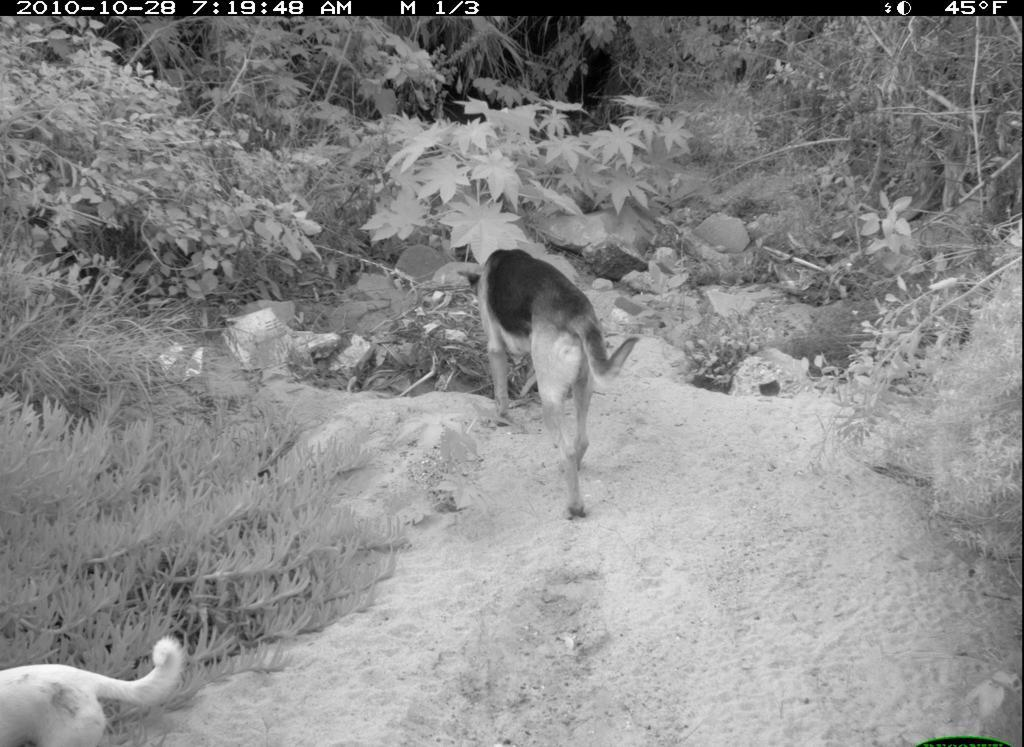dog: (468, 232, 648, 528), (4, 623, 199, 745)
